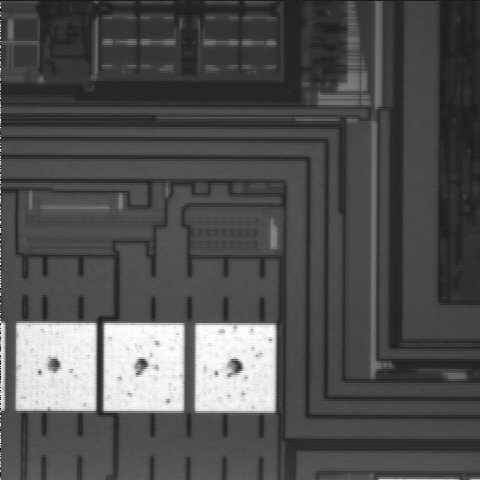pad: (195, 323, 276, 413), (16, 323, 96, 411), (104, 323, 184, 411)
